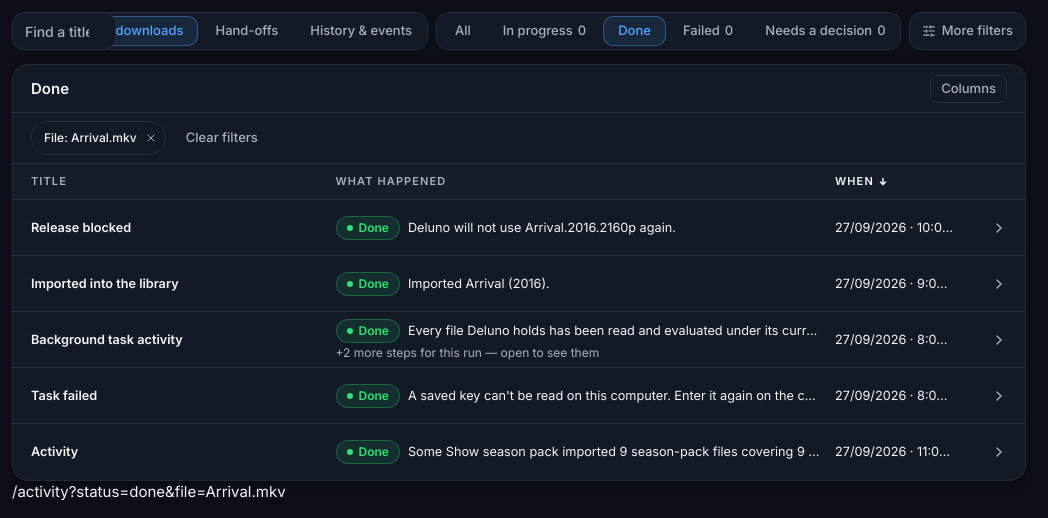
Scenario: Activity history keeps its filters in the address (#1100) › shows a link's file filter as a token and clears the filter when it is removed
Expected: the text "File: Arrival.mkv" is shown, [44,129,137,147]
Expected: the text named "address" shows "file=Arrival.mkv", [12,482,286,501]
Click the button named "Remove filter File: Arrival.mkv": point(151, 138) [141,128,161,148]
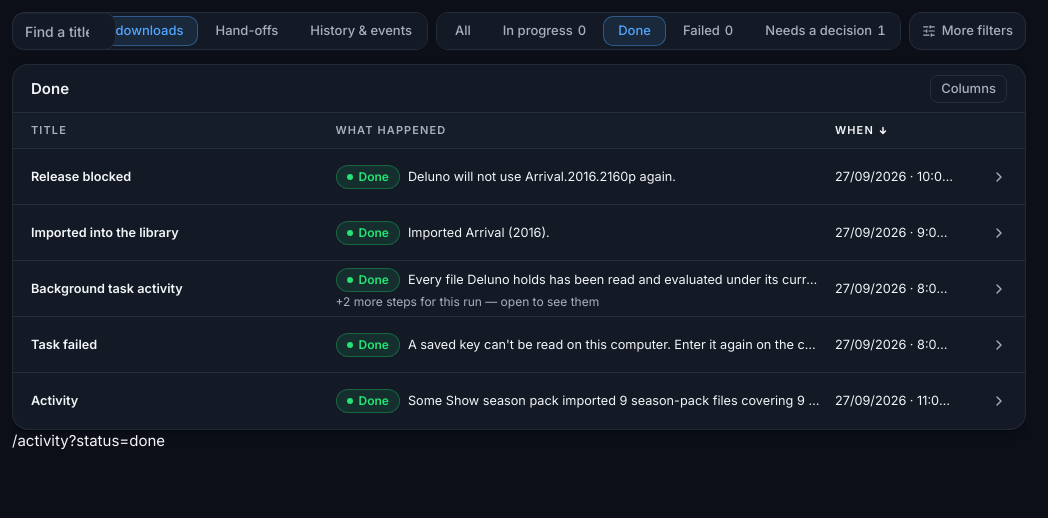
Expected: the text named "address" shows "status=done", [12,431,165,450]
Expected: the text labelled "address" no longer shows "file="
Expected: the text "File: Arrival.mkv" is gone
